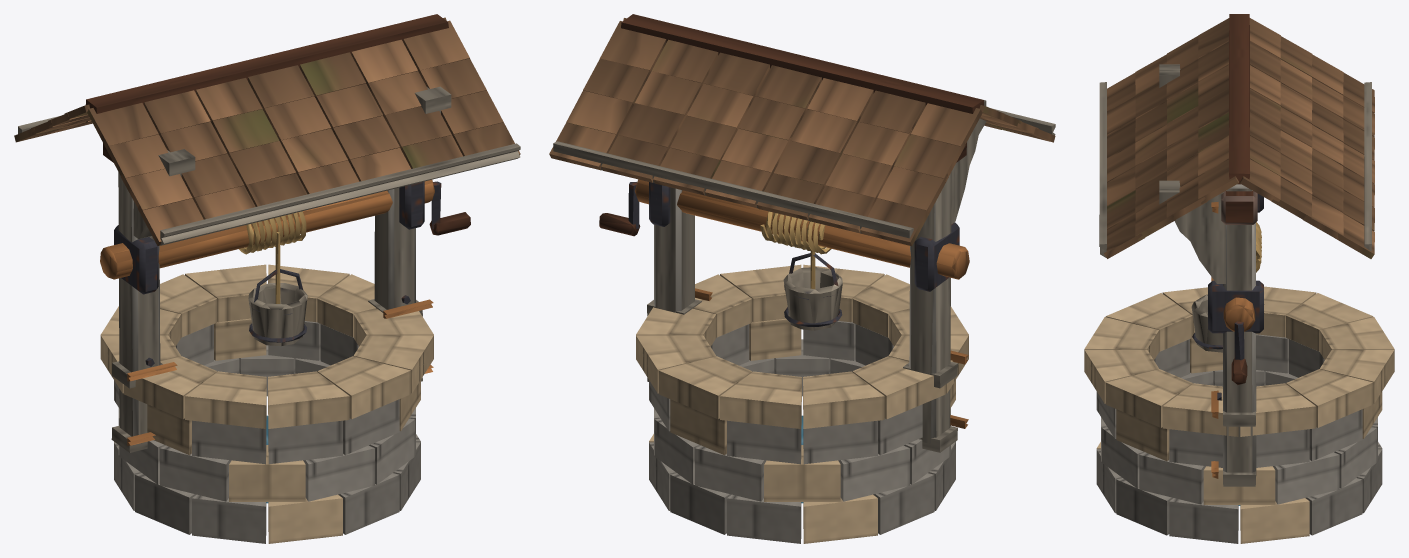
Rendered from SM_Well_LOD1.gltf.
The picture shows the model from 3 angles, left to right: view 1: azimuth 30°, elevation 25°; view 2: azimuth 150°, elevation 25°; view 3: azimuth 270°, elevation 25°; orthographic projection. The views are drawn at different scales.
Parts seen in each view (by area): view 1: SM_Well_LOD1; view 2: SM_Well_LOD1; view 3: SM_Well_LOD1.
Part boxes in pixels (x1,y1,x2,y2): SM_Well_LOD1: [14, 14, 520, 543]; SM_Well_LOD1: [549, 14, 1055, 543]; SM_Well_LOD1: [1084, 14, 1394, 543].
Bounding box in the file's own units: 2.36 × 2.47 × 1.78.
1 material, 1 textured.
